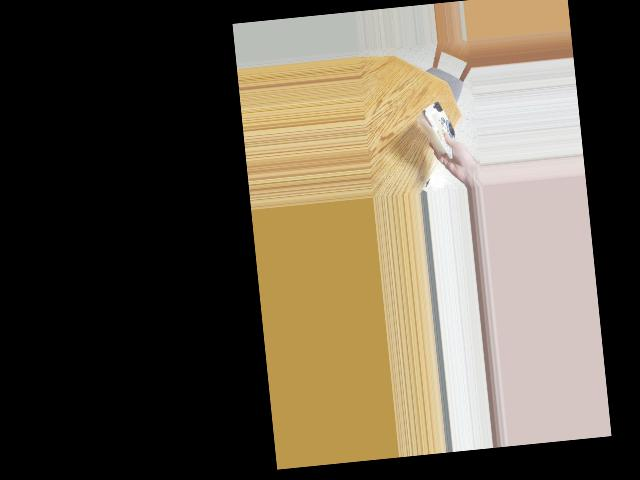cheese: (416, 102, 465, 153)
